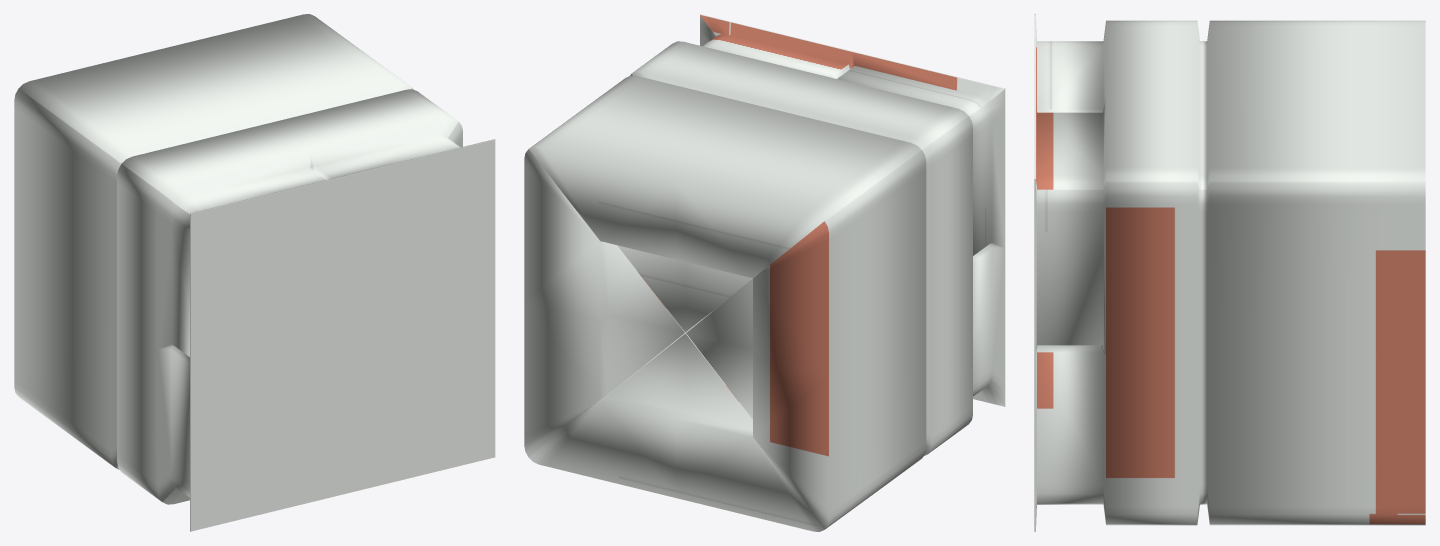
The model's file is corridor_wall_7.fbx.
3 renders of one model, left to right at view 1: azimuth 30°, elevation 25°; view 2: azimuth 150°, elevation 25°; view 3: azimuth 270°, elevation 25°, orthographic. The views are drawn at different scales.
Visible parts, largest first — view 1: corridor_walls_and_floor:Corridor_Wall_Corner_Out_Both; view 2: corridor_walls_and_floor:Corridor_Wall_Corner_Out_Both; view 3: corridor_walls_and_floor:Corridor_Wall_Corner_Out_Both.
Part boxes in pixels (<box>): corridor_walls_and_floor:Corridor_Wall_Corner_Out_Both: <box>14,14,495,531</box>; corridor_walls_and_floor:Corridor_Wall_Corner_Out_Both: <box>524,14,1005,531</box>; corridor_walls_and_floor:Corridor_Wall_Corner_Out_Both: <box>1034,14,1425,531</box>.
Bounding box in the file's own units: 0.9964 × 0.9921 × 0.997.
